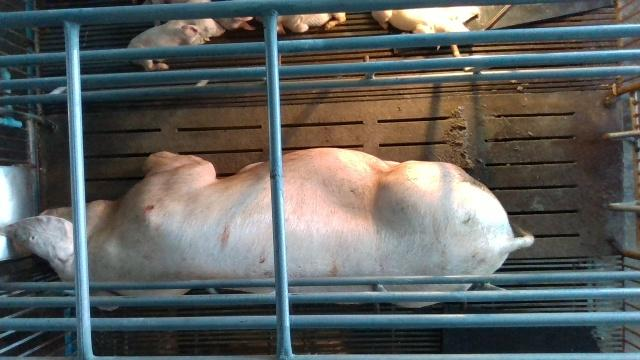piglet: (127, 20, 225, 70), (372, 9, 469, 33), (277, 12, 345, 35)
sow-sleep: (0, 148, 535, 309)
